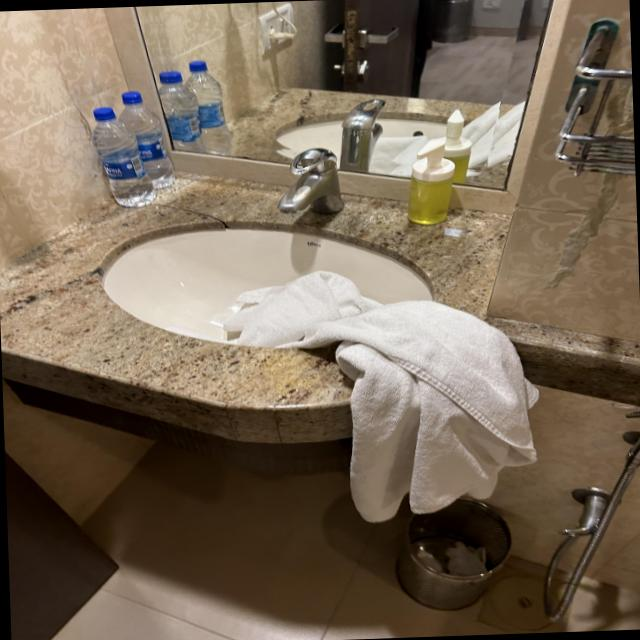mess: (0, 73, 591, 515)
